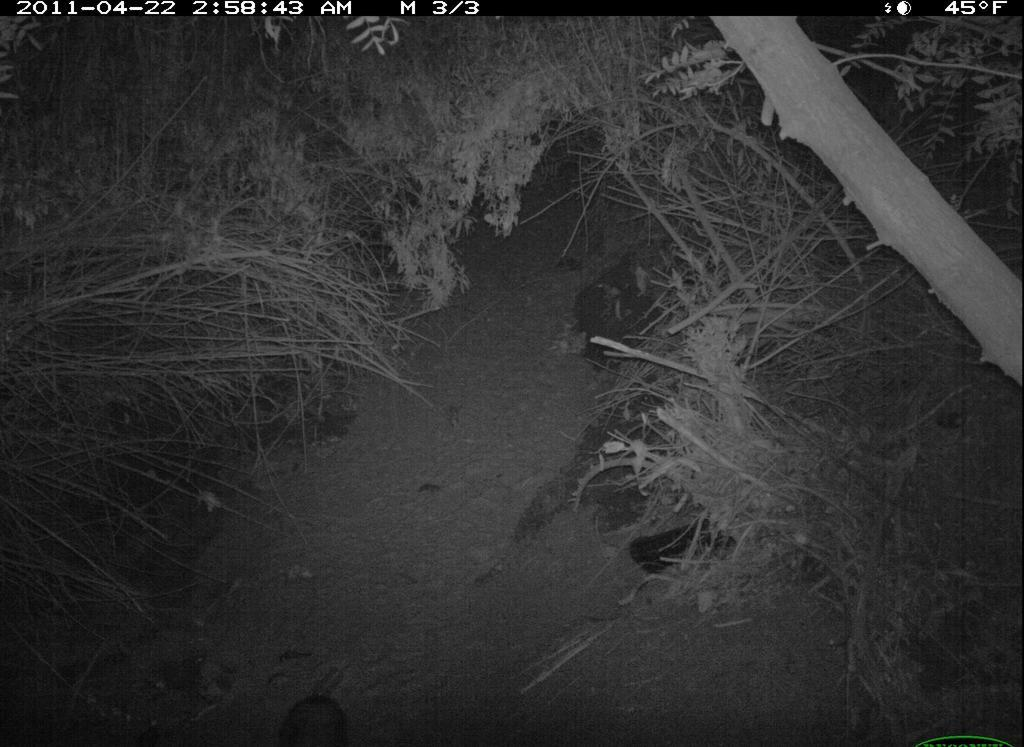raccoon: (272, 671, 363, 747)
